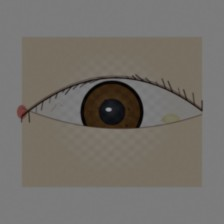pinguecula_lesion: (152, 104, 189, 134)
